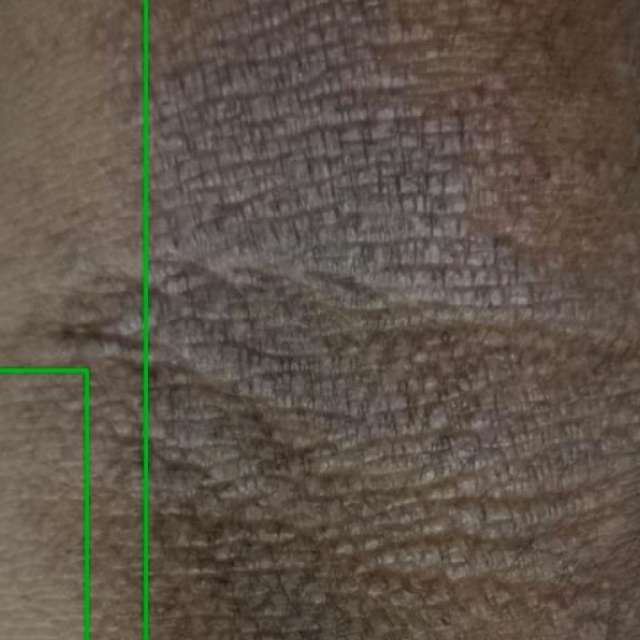Eczema: (0, 0, 145, 639), (0, 370, 86, 639)
